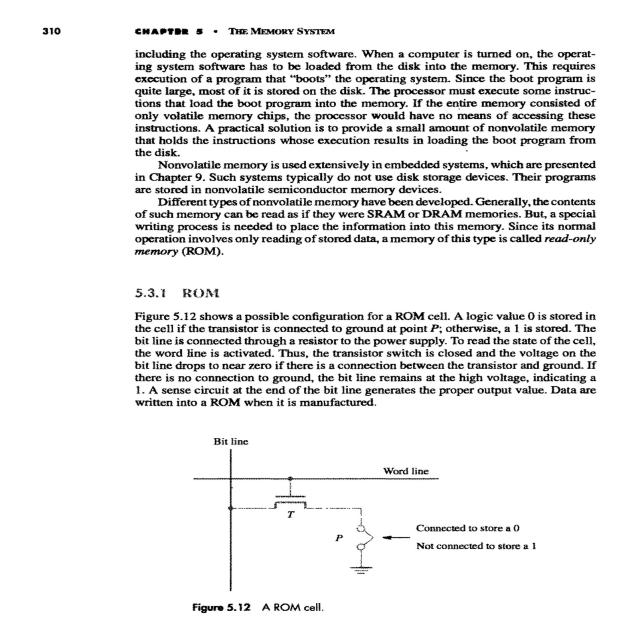diagram: (122, 426, 570, 619)
